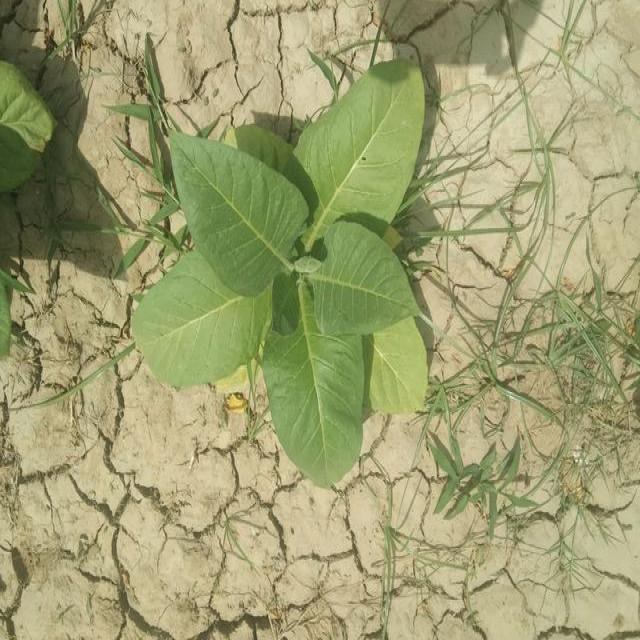crop: (140, 69, 431, 482), (0, 66, 52, 202)
